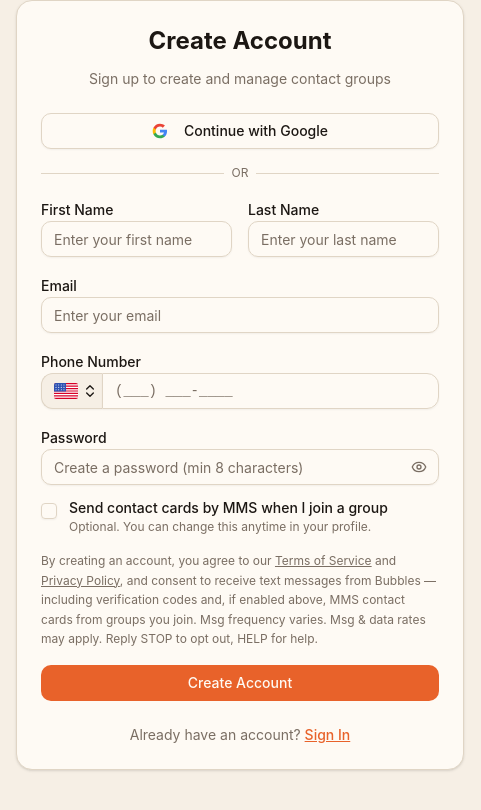
AuthForm › Sign Up Mode › shows validation errors for missing first name
This screenshot has width=481, height=810.
Type "test@example.com" into the field labelled "Email" at (240, 315), box x1=41 y1=297 x2=439 y2=333
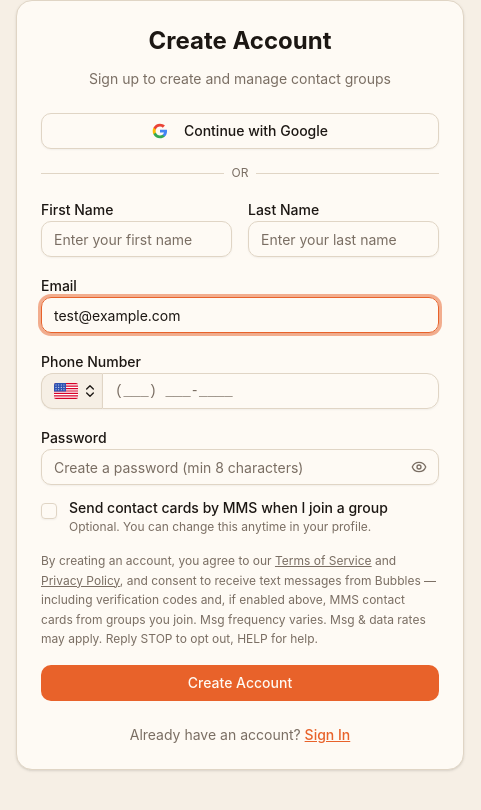
Type "password123" into the password field labelled "Password" at (240, 467), box x1=41 y1=449 x2=439 y2=485
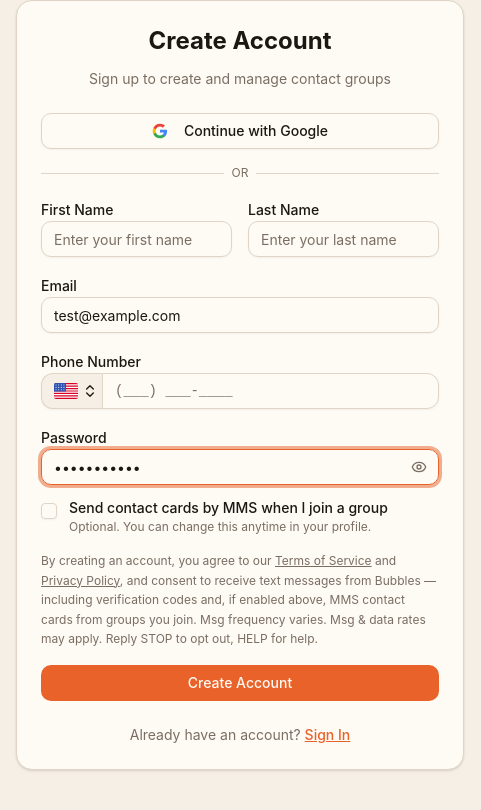
Click the button "Create Account" at (240, 682), box x1=41 y1=664 x2=439 y2=700
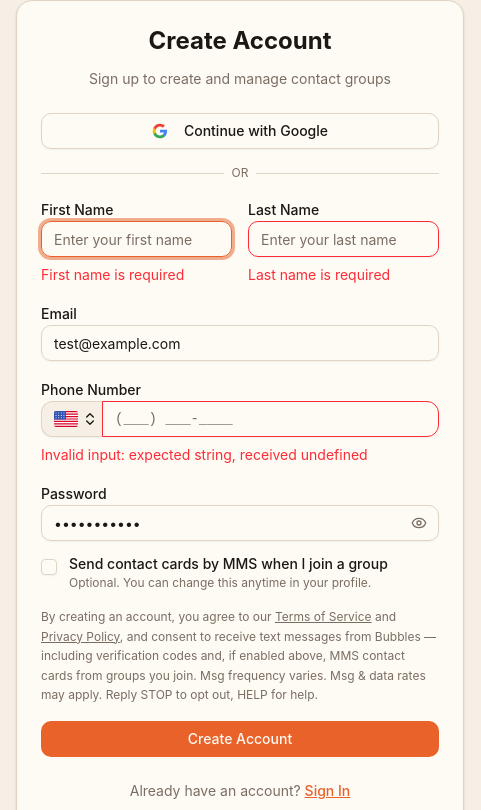
expect the text "First name is required" is shown: met, box x1=41 y1=266 x2=184 y2=283
